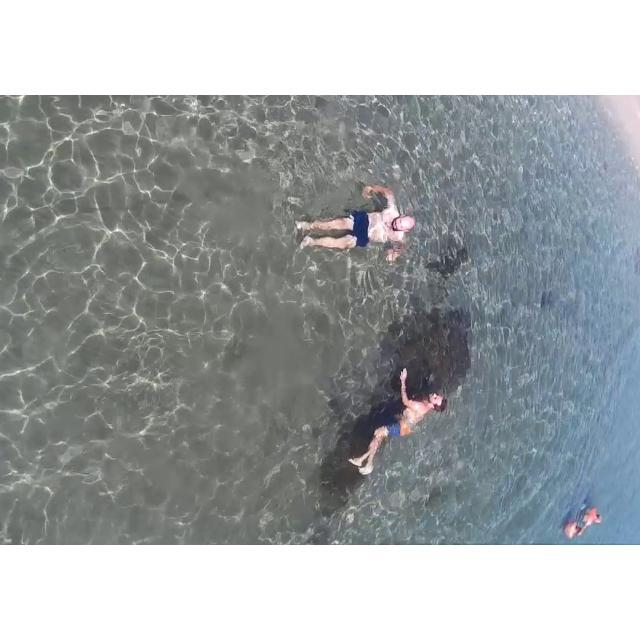human: (331, 349, 466, 505), (283, 145, 431, 285), (582, 501, 606, 530)
